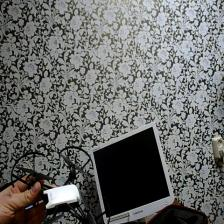drone: (7, 141, 112, 224)
